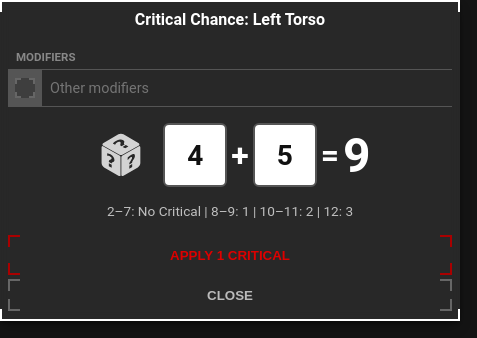
Test case: MekCriticalChanceDialogComponent › opts into Other modifiers above the dice and recomputes without rerolling
The width and height of the screenshot is (477, 338).
Click the checkbox labelled "Other modifiers".
click(25, 88)  # box [15, 78, 35, 98]
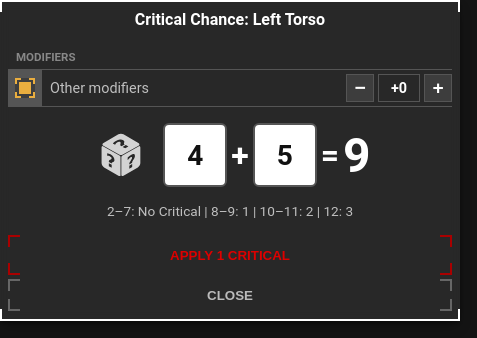
Click the button with class "critical-modifier-step" showing "+".
click(438, 88)  # box [424, 74, 452, 102]
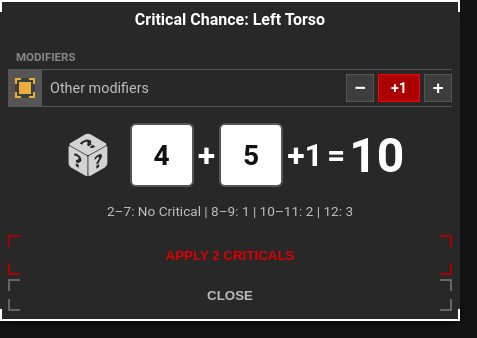
Click the checkbox labelled "Other modifiers".
click(25, 88)  # box [15, 78, 35, 98]
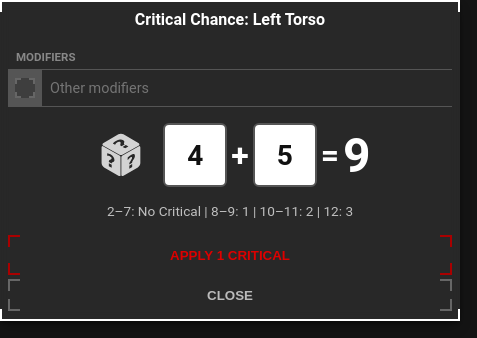
expect the element with class "critical-modifier-controls" is gone: met
expect the text with class "modifier-value" is gone: met
